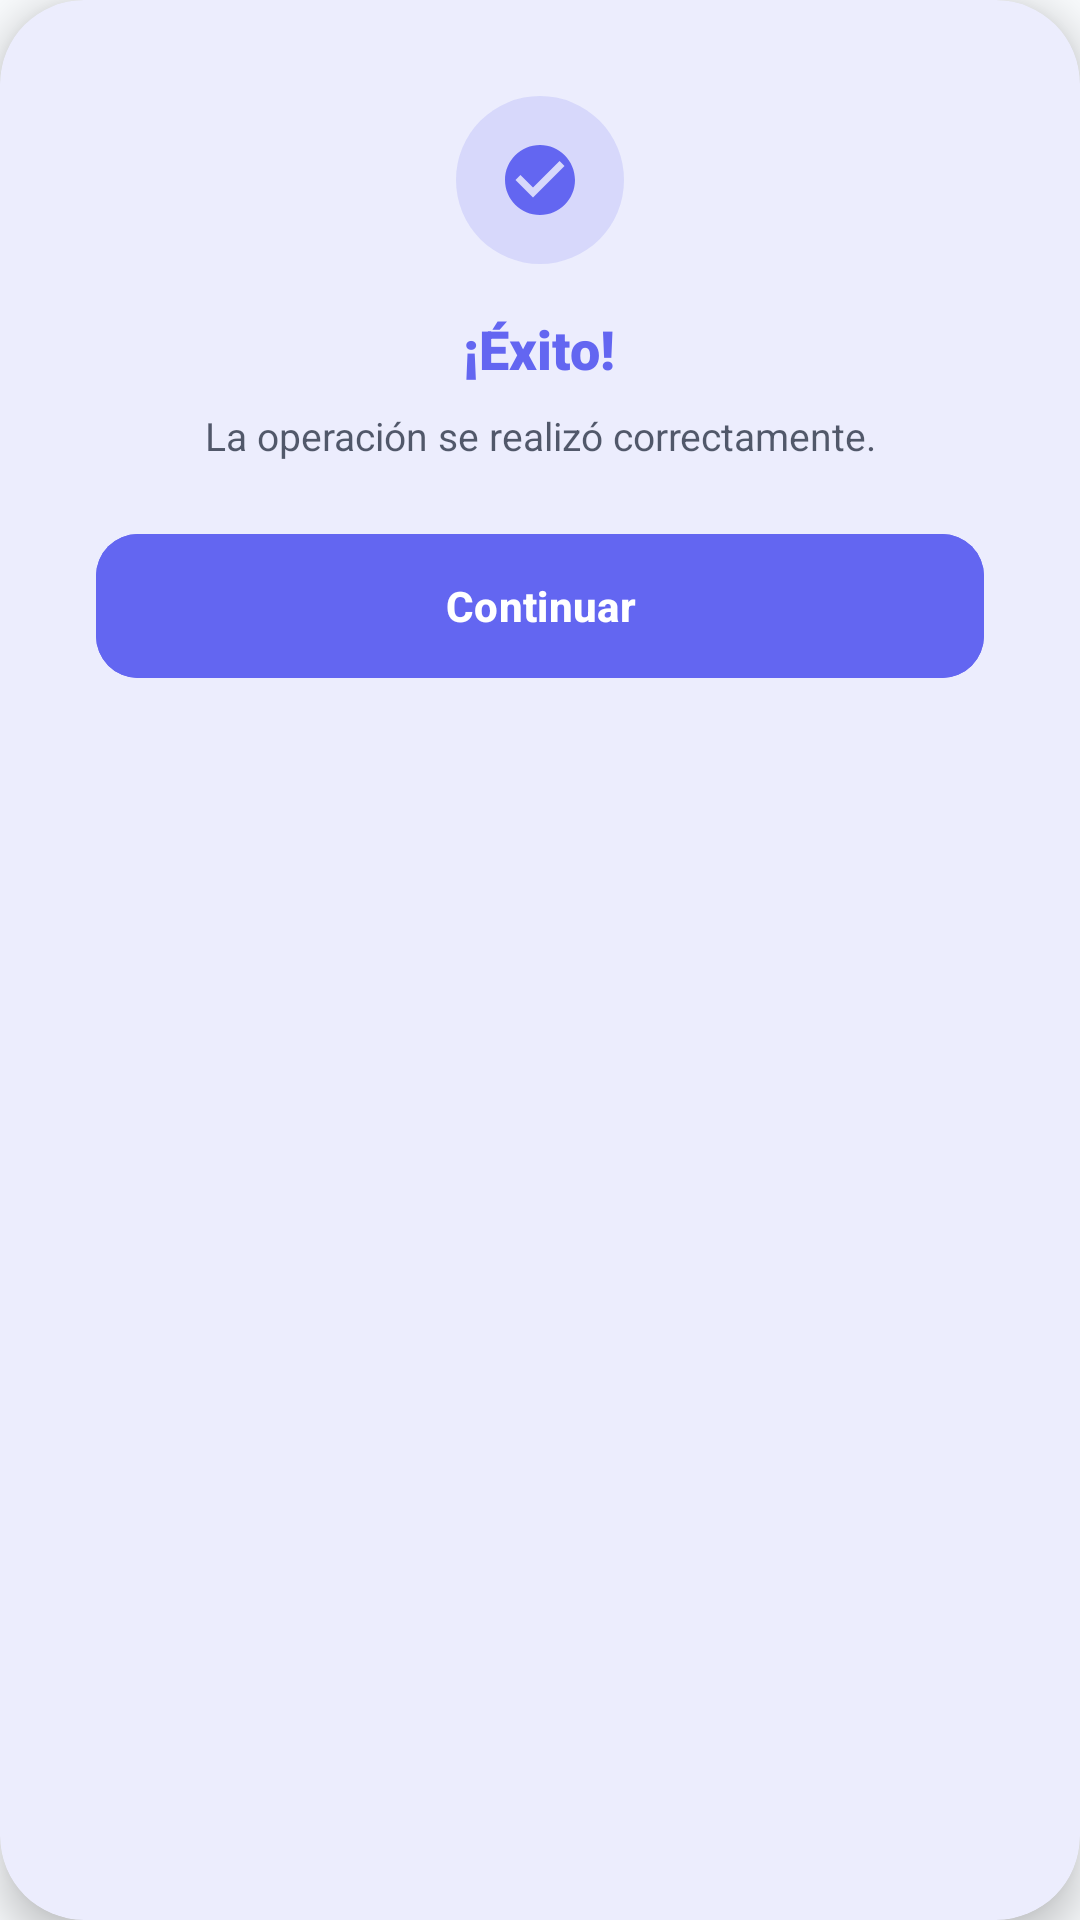

Named icons in this screenshot (1080 x 1920) and their centers, [x,y]:
check circle: [540,180]
